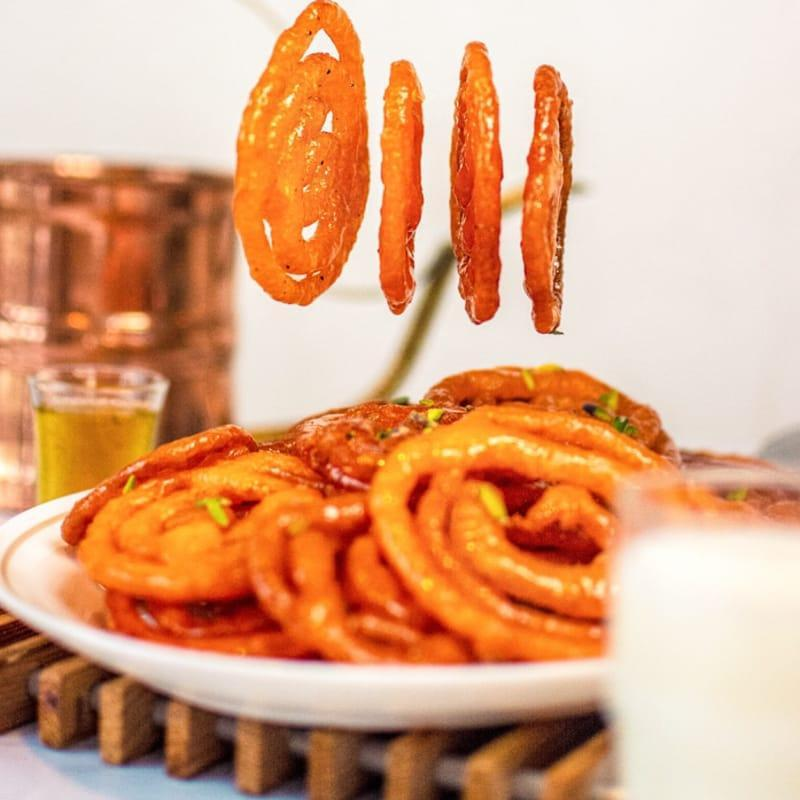jalebi: (114, 425, 660, 684), (216, 13, 598, 345)
